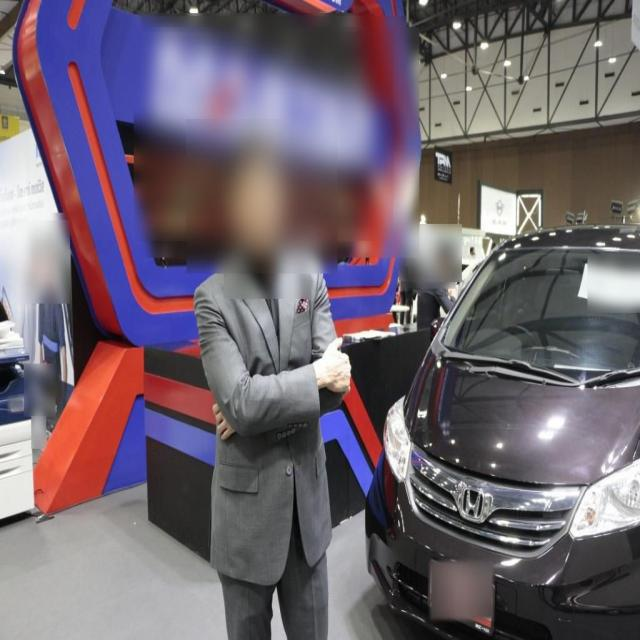front_bumper: (364, 444, 639, 639)
front_glass: (439, 249, 639, 368)
front_left_light: (569, 459, 639, 538)
front_right_light: (384, 394, 411, 482)
hood: (406, 346, 639, 485)
